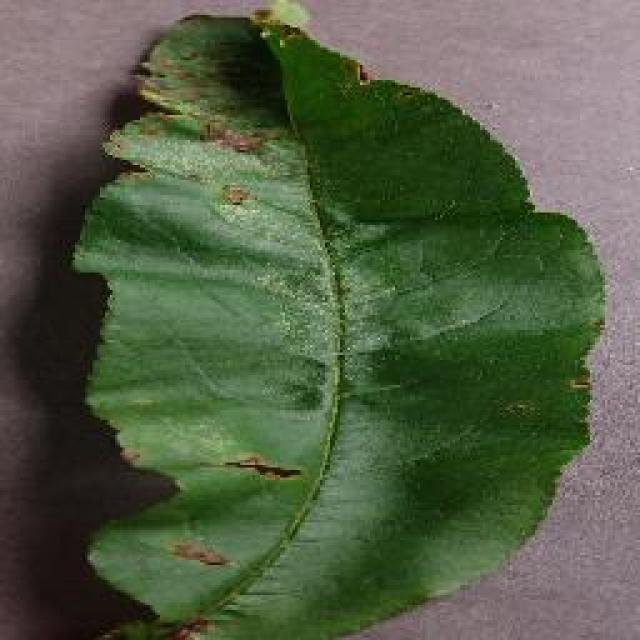Peach_Bacterial_Spot: (143, 49, 307, 304)
